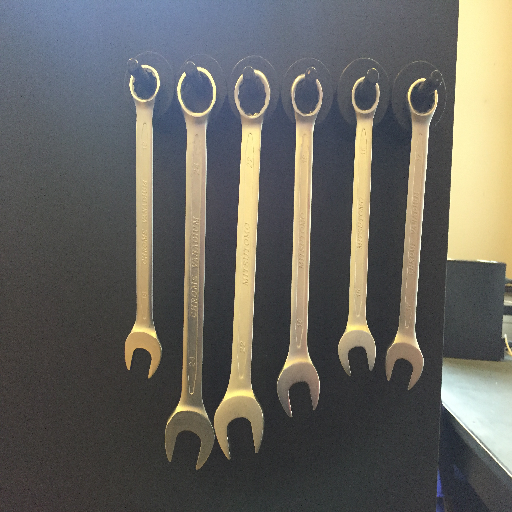bottom: (212, 394, 266, 460), (160, 410, 215, 472), (273, 358, 328, 420), (383, 339, 427, 395), (121, 328, 165, 383), (335, 328, 379, 376)
top: (230, 65, 271, 120), (175, 65, 217, 118), (288, 72, 327, 123), (403, 75, 443, 119), (350, 74, 384, 121), (126, 63, 163, 105)
